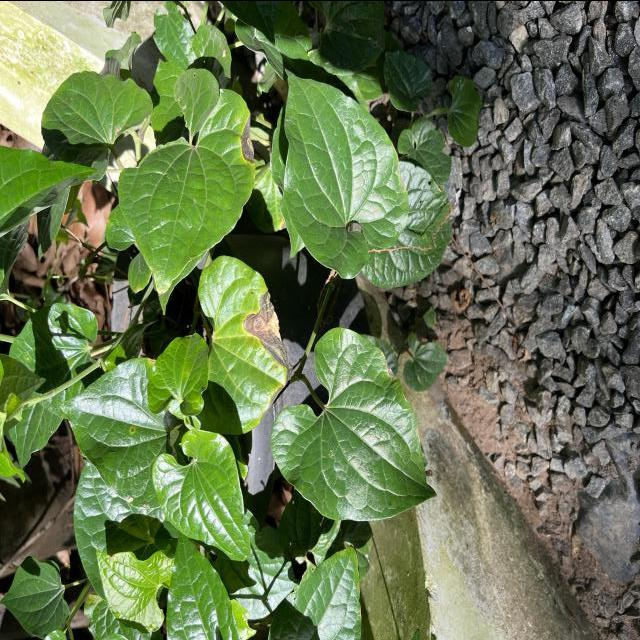Piper longum: (268, 318, 440, 522), (279, 62, 412, 279), (55, 352, 161, 512), (150, 425, 256, 565), (39, 66, 155, 184), (144, 328, 212, 418)
